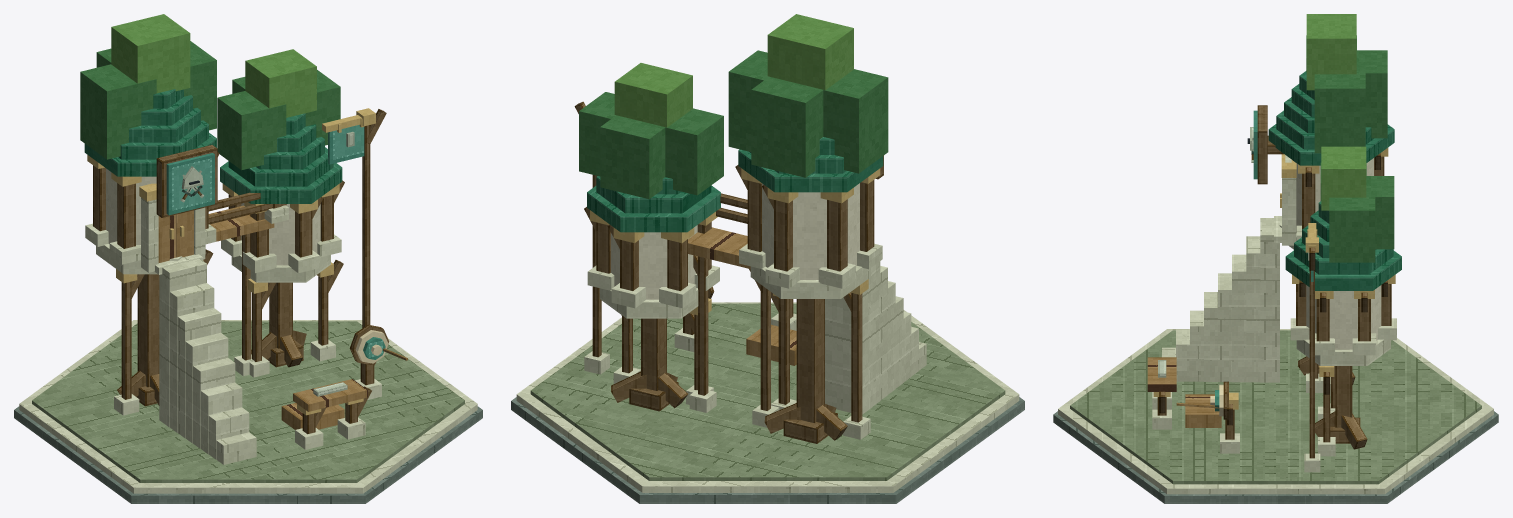
Rendered from elf_rogue_mastery_hex_v1.glb.
3 renders of one model, left to right at view 1: azimuth 30°, elevation 25°; view 2: azimuth 150°, elevation 25°; view 3: azimuth 270°, elevation 25°, orthographic. The views are drawn at different scales.
Visible parts, largest first — view 1: Elf_Rogue_Mastery_Hex_V1_Foundation, Elf_Rogue_Mastery_Hex_V1_Focus, Elf_Rogue_Mastery_Hex_V1_Hall, Elf_Rogue_Mastery_Hex_V1_Courtyard, Elf_Rogue_Mastery_Hex_V1_Roofs, Elf_Rogue_Mastery_Hex_V1_Faction, Elf_Rogue_Mastery_Hex_V1_Training; view 2: Elf_Rogue_Mastery_Hex_V1_Foundation, Elf_Rogue_Mastery_Hex_V1_Focus, Elf_Rogue_Mastery_Hex_V1_Hall, Elf_Rogue_Mastery_Hex_V1_Courtyard, Elf_Rogue_Mastery_Hex_V1_Roofs, Elf_Rogue_Mastery_Hex_V1_Faction, Elf_Rogue_Mastery_Hex_V1_Training; view 3: Elf_Rogue_Mastery_Hex_V1_Foundation, Elf_Rogue_Mastery_Hex_V1_Focus, Elf_Rogue_Mastery_Hex_V1_Courtyard, Elf_Rogue_Mastery_Hex_V1_Hall, Elf_Rogue_Mastery_Hex_V1_Roofs, Elf_Rogue_Mastery_Hex_V1_Faction, Elf_Rogue_Mastery_Hex_V1_Training.
Part boxes in pixels (x1,y1,x2,y2): Elf_Rogue_Mastery_Hex_V1_Foundation: [14, 320, 482, 503]; Elf_Rogue_Mastery_Hex_V1_Focus: [80, 14, 340, 406]; Elf_Rogue_Mastery_Hex_V1_Hall: [85, 152, 344, 415]; Elf_Rogue_Mastery_Hex_V1_Courtyard: [154, 192, 344, 464]; Elf_Rogue_Mastery_Hex_V1_Roofs: [84, 89, 342, 203]; Elf_Rogue_Mastery_Hex_V1_Faction: [156, 108, 386, 328]; Elf_Rogue_Mastery_Hex_V1_Training: [293, 324, 407, 449]; Elf_Rogue_Mastery_Hex_V1_Foundation: [511, 302, 1024, 503]; Elf_Rogue_Mastery_Hex_V1_Focus: [579, 14, 888, 443]; Elf_Rogue_Mastery_Hex_V1_Hall: [584, 165, 882, 439]; Elf_Rogue_Mastery_Hex_V1_Courtyard: [716, 193, 926, 414]; Elf_Rogue_Mastery_Hex_V1_Roofs: [587, 137, 883, 232]; Elf_Rogue_Mastery_Hex_V1_Faction: [574, 101, 883, 374]; Elf_Rogue_Mastery_Hex_V1_Training: [674, 286, 796, 351]; Elf_Rogue_Mastery_Hex_V1_Foundation: [1053, 329, 1498, 503]; Elf_Rogue_Mastery_Hex_V1_Focus: [1298, 14, 1394, 449]; Elf_Rogue_Mastery_Hex_V1_Courtyard: [1162, 215, 1310, 427]; Elf_Rogue_Mastery_Hex_V1_Hall: [1279, 147, 1396, 456]; Elf_Rogue_Mastery_Hex_V1_Roofs: [1268, 71, 1401, 290]; Elf_Rogue_Mastery_Hex_V1_Faction: [1247, 105, 1320, 472]; Elf_Rogue_Mastery_Hex_V1_Training: [1147, 357, 1239, 453].
Bounding box in the file's own units: 1.59 × 1.66 × 1.84.
Materials: 1 (1 with a texture image).
